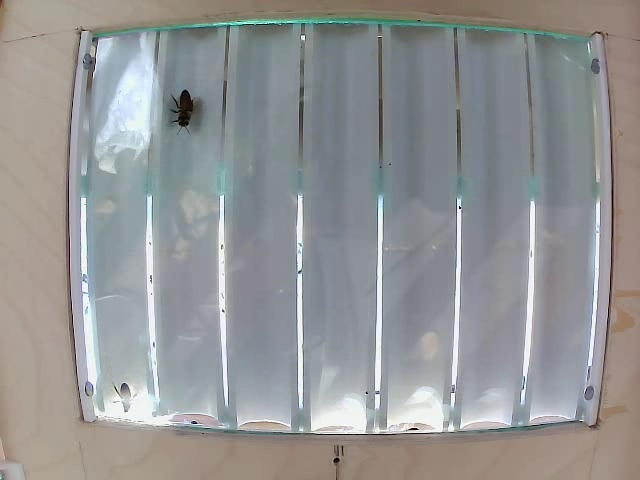bee: (173, 85, 197, 138)
